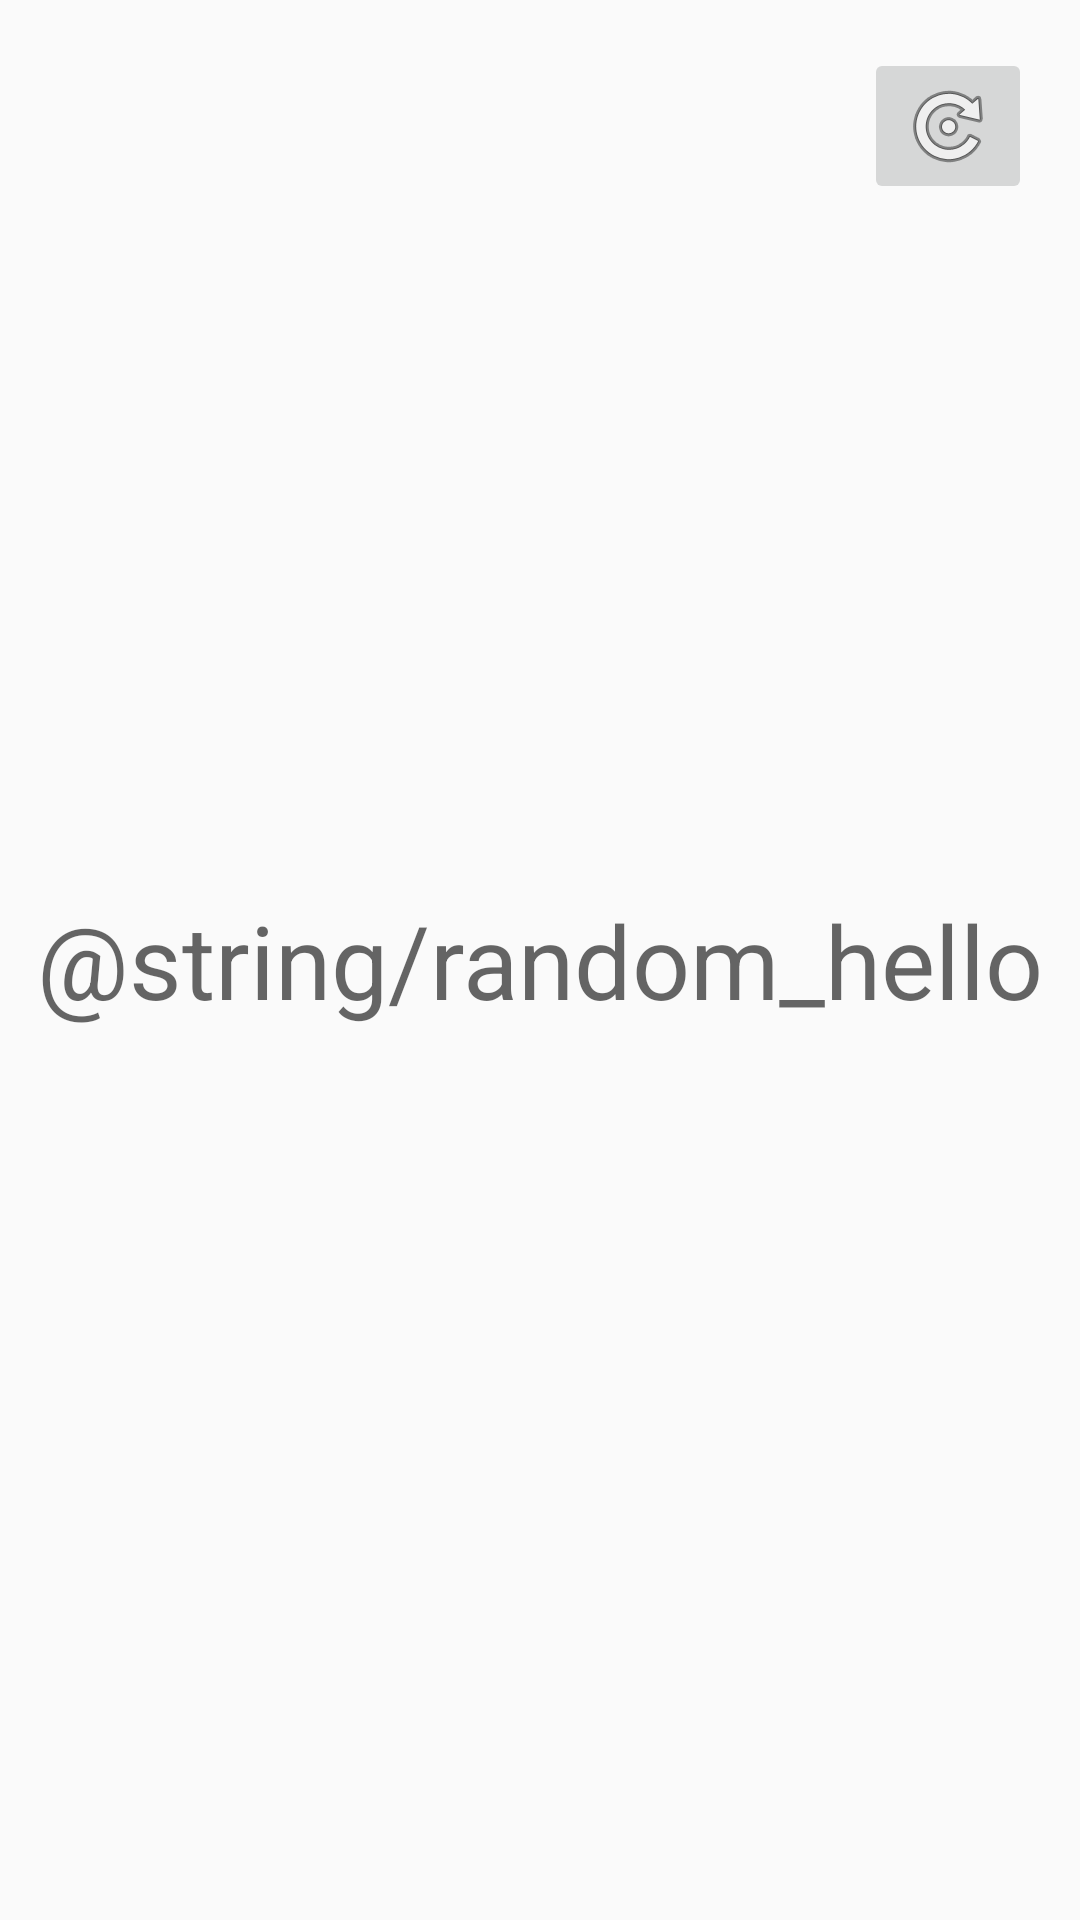

Locate icon controls on the screen. Image size 1080 x 1920, boxes as (x1, y1, x2, y2).
rotate: (876, 66, 1020, 186)
